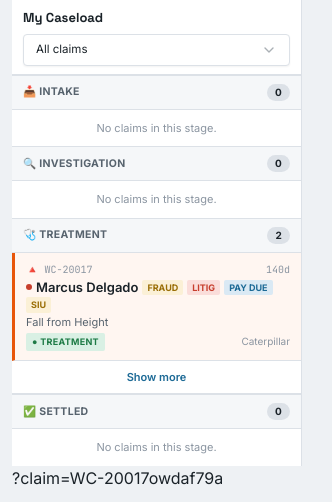
Test: the button stays put while the page it asked for is in flight
The width and height of the screenshot is (332, 502).
What coordinates should you click on to do the following:
click the button with test id "queue-group-treatment-more"
I would click on:
 (156, 377)
Its box is top-left (12, 360), bottom-right (301, 394).
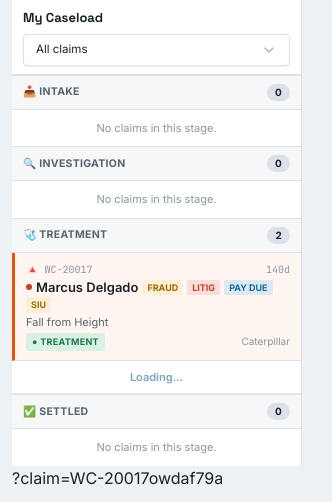
Check: the button with test id "queue-group-treatment-more" is disabled, box top-left (12, 360), bottom-right (301, 394)
Check: the button with test id "queue-group-treatment-more" reads "Loading…", box top-left (12, 360), bottom-right (301, 394)
